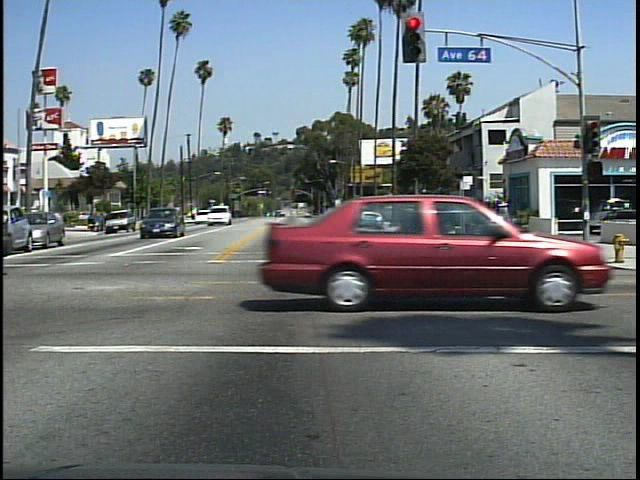person: (499, 195, 508, 242)
